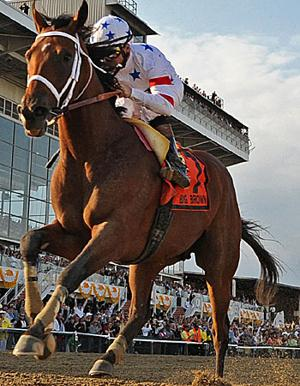person: (90, 9, 192, 192)
